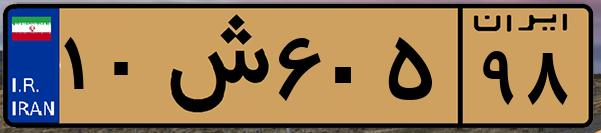0: (330, 28, 385, 110), (110, 28, 158, 98)
1: (57, 26, 110, 100)
5: (385, 28, 445, 110)
6: (270, 28, 330, 110)
8: (525, 38, 570, 115)
9: (475, 38, 525, 113)
ش: (158, 12, 270, 120)
